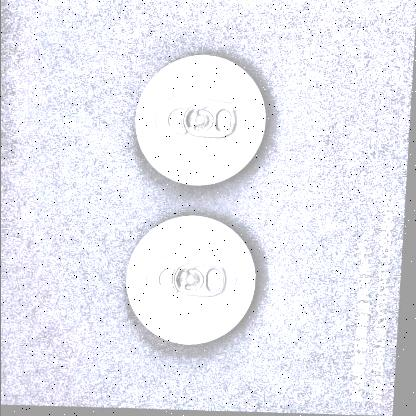Can: (120, 212, 264, 352), (128, 54, 274, 192)
